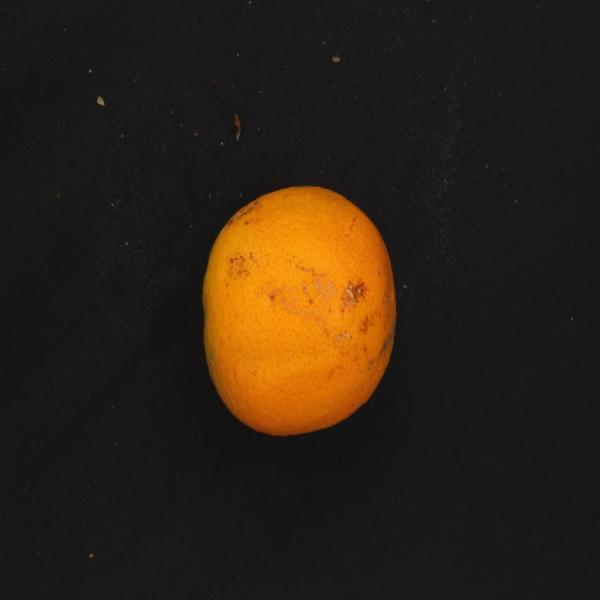Otros defectos: (198, 172, 418, 459)
